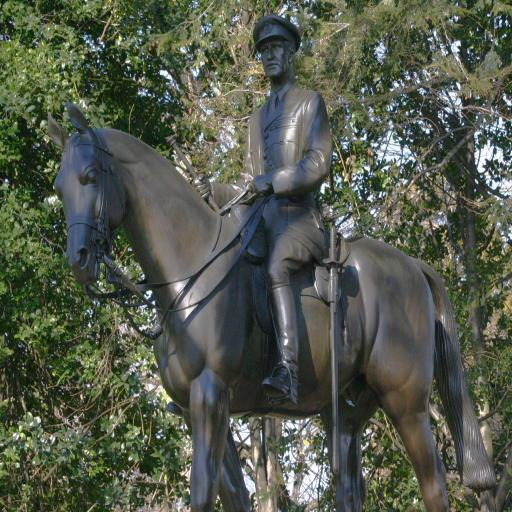horse: (44, 102, 500, 512)
